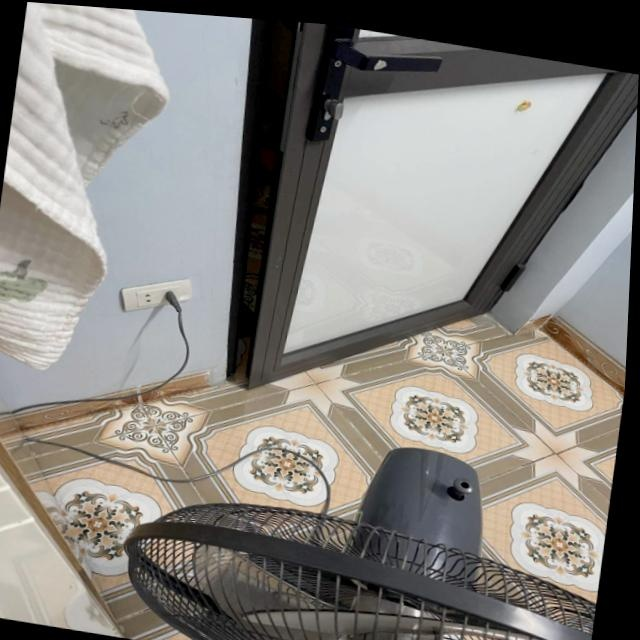outlet: (116, 267, 194, 321)
